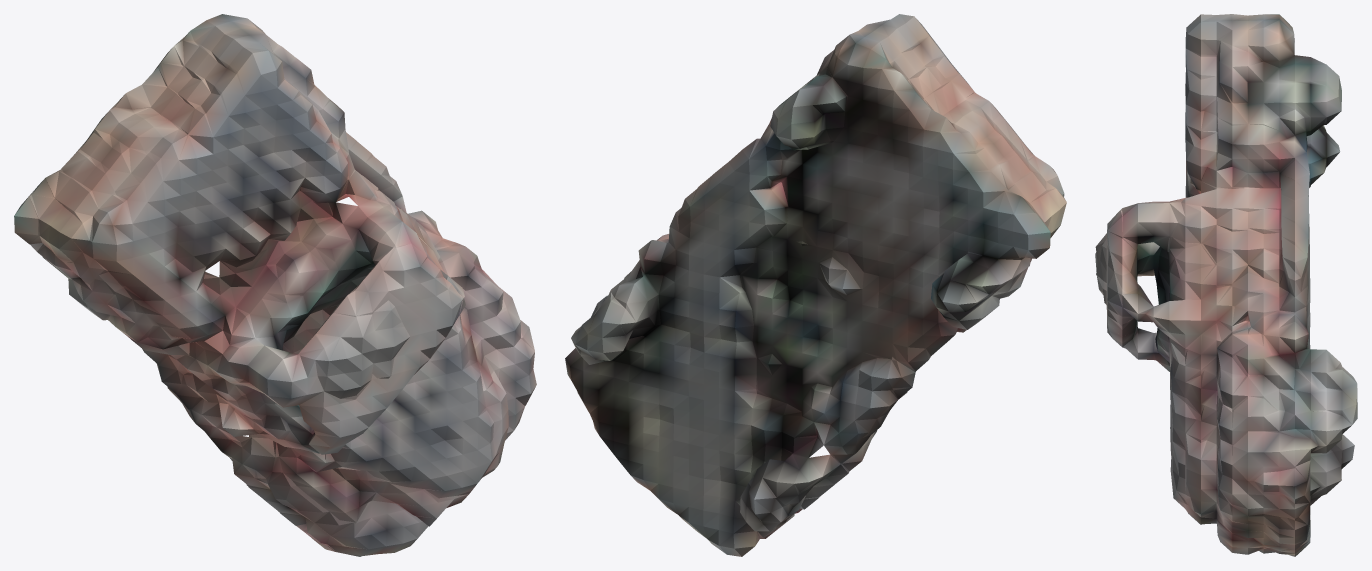
File: 000003_us car_old_vintage_10240_64.glb
The picture shows the model from 3 angles, left to right: view 1: azimuth 30°, elevation 25°; view 2: azimuth 150°, elevation 25°; view 3: azimuth 270°, elevation 25°; orthographic projection. The views are drawn at different scales.
Visible parts, largest first — view 1: world; view 2: world; view 3: world.
Boxes of the visible parts, x1,y1,x2,y2 form: world: (14,14,536,556); world: (565,14,1066,556); world: (1095,14,1357,556).
Bounding box in the file's own units: 0.8762 × 0.9382 × 0.4616.
